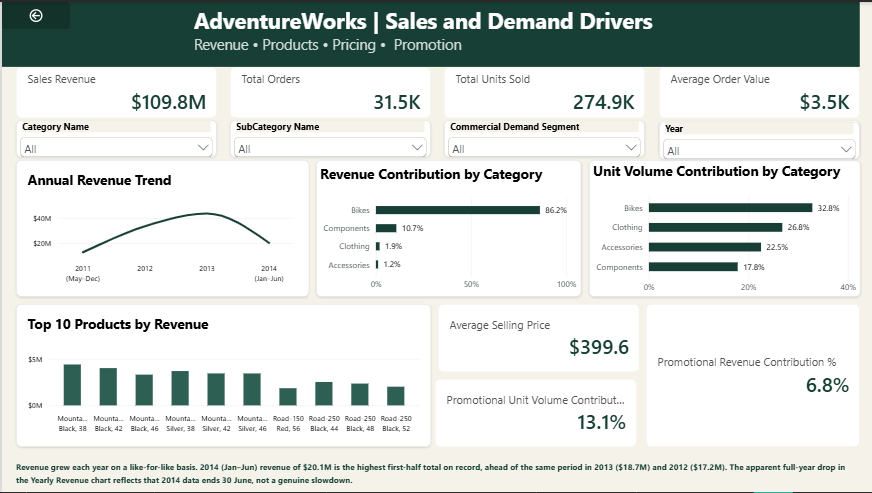

The page's visual inventory and layout, read from the dashboard file:
{"tool":"powerbi","page":{"name":"Sales & Demand Drivers","canvas":[1280,720],"ordinal":1},"visuals":[{"type":"shape","box":[0,0,1260,95],"z":0},{"type":"textbox","box":[282.5,5,1042.5,85],"z":1000},{"type":"slicer","fields":{"Values":["DimProductCategory.Category Name"]},"box":[20,173,295,55],"z":2000},{"type":"cardVisual","fields":{"Data":["_Measures.Sales Revenue"]},"box":[20,95,295,75],"z":3000},{"type":"lineChart","title":"Annual Revenue Trend","fields":{"Category":["DimDate.Year Label","DimDate.Year Quarter","DimDate.Month Name","DimDate.Date"],"Y":["_Measures.Sales Revenue"]},"box":[20,232.9,431.4,201.4],"z":4000},{"type":"slicer","fields":{"Values":["DimProductSubCategory.SubCategory Name"]},"box":[335,173.5,295,55],"z":5000},{"type":"clusteredColumnChart","title":"Top 10 Products by Revenue","fields":{"Category":["DimProduct.Name","DimProductSubCategory.SubCategory Name"],"Y":["_Measures.Sales Revenue"]},"box":[20,444.3,610,210],"z":6000},{"type":"clusteredBarChart","title":"Revenue Contribution by Category","fields":{"Category":["DimProductCategory.Category Name","DimProductSubCategory.SubCategory Name"],"Y":["_Measures.Revenue Contribution %"]},"box":[461.4,231.4,390,201.4],"z":7000},{"type":"slicer","fields":{"Values":["DimProduct.Commercial Demand Segment"]},"box":[650,173.5,295,55],"z":8000},{"type":"barChart","title":"Unit Volume Contribution by Category","fields":{"Category":["DimProductCategory.Category Name","DimProductSubCategory.SubCategory Name"],"Y":["_Measures.Unit Volume Contribution %"]},"box":[862.9,231.4,398.6,201.4],"z":9000},{"type":"cardVisual","fields":{"Data":["_Measures.Total Orders"]},"box":[335,95,295,75],"z":10000},{"type":"cardVisual","fields":{"Data":["_Measures.Total Units Sold"]},"box":[650,95,295,75],"z":11000},{"type":"textbox","box":[20,673.3,1231.1,37.8],"z":12000},{"type":"cardVisual","fields":{"Data":["_Measures.Average Order Value"]},"box":[965,95,295,75],"z":13000},{"type":"slicer","fields":{"Values":["DimDate.Year Quarter"]},"box":[965,173.5,295,55],"z":14000},{"type":"cardVisual","fields":{"Data":["_Measures.Average Selling Price"]},"box":[640,444.3,296,100],"z":15000},{"type":"cardVisual","fields":{"Data":["_Measures.Promotional Unit Volume Contribution %"]},"box":[635.7,554.3,296,100],"z":16000},{"type":"cardVisual","fields":{"Data":["_Measures.Promotional Revenue Contribution %"]},"box":[945.7,444.3,314.3,210],"z":17000},{"type":"actionButton","box":[0,0,100,40],"z":18000},{"type":"slicer","fields":{"Values":["DimDate.Year"]},"box":[965,176.7,295,55],"z":19000}]}

Visuals, with their boxes in screenshot pixels (x1, y1, x2, y2), scaled from the page's 1280x720 canvas onto the 872x493 screenshot:
shape: pyautogui.locateOnScreen(0, 0, 858, 65)
textbox: pyautogui.locateOnScreen(192, 3, 871, 62)
slicer - DimProductCategory.Category Name: pyautogui.locateOnScreen(14, 118, 215, 156)
cardVisual - _Measures.Sales Revenue: pyautogui.locateOnScreen(14, 65, 215, 116)
"Annual Revenue Trend" lineChart: pyautogui.locateOnScreen(14, 159, 308, 297)
slicer - DimProductSubCategory.SubCategory Name: pyautogui.locateOnScreen(228, 119, 429, 156)
"Top 10 Products by Revenue" clusteredColumnChart: pyautogui.locateOnScreen(14, 304, 429, 448)
"Revenue Contribution by Category" clusteredBarChart: pyautogui.locateOnScreen(314, 158, 580, 296)
slicer - DimProduct.Commercial Demand Segment: pyautogui.locateOnScreen(443, 119, 644, 156)
"Unit Volume Contribution by Category" barChart: pyautogui.locateOnScreen(588, 158, 859, 296)
cardVisual - _Measures.Total Orders: pyautogui.locateOnScreen(228, 65, 429, 116)
cardVisual - _Measures.Total Units Sold: pyautogui.locateOnScreen(443, 65, 644, 116)
textbox: pyautogui.locateOnScreen(14, 461, 852, 487)
cardVisual - _Measures.Average Order Value: pyautogui.locateOnScreen(657, 65, 858, 116)
slicer - DimDate.Year Quarter: pyautogui.locateOnScreen(657, 119, 858, 156)
cardVisual - _Measures.Average Selling Price: pyautogui.locateOnScreen(436, 304, 638, 373)
cardVisual - _Measures.Promotional Unit Volume Contribution %: pyautogui.locateOnScreen(433, 380, 635, 448)
cardVisual - _Measures.Promotional Revenue Contribution %: pyautogui.locateOnScreen(644, 304, 858, 448)
actionButton: pyautogui.locateOnScreen(0, 0, 68, 27)
slicer - DimDate.Year: pyautogui.locateOnScreen(657, 121, 858, 159)
